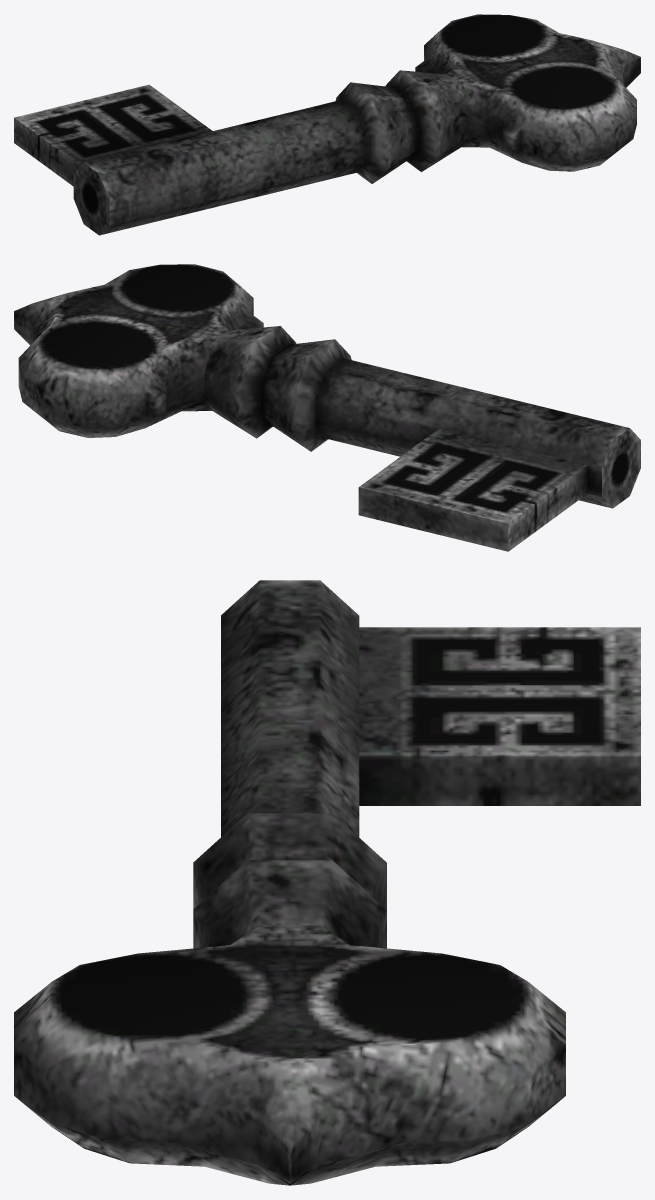
Rendered from key_tomb.dae.
3 renders of one model, top to bottom at view 1: azimuth 30°, elevation 25°; view 2: azimuth 150°, elevation 25°; view 3: azimuth 270°, elevation 25°, orthographic. The views are drawn at different scales.
Visible parts, largest first — view 1: key_tomb1; view 2: key_tomb1; view 3: key_tomb1.
Boxes of the visible parts, x1=… form: key_tomb1: x1=14, y1=14, x2=640, y2=235; key_tomb1: x1=14, y1=264, x2=640, y2=551; key_tomb1: x1=14, y1=580, x2=640, y2=1185.
Bounding box in the file's own units: 0.1885 × 0.0282 × 0.0954.
